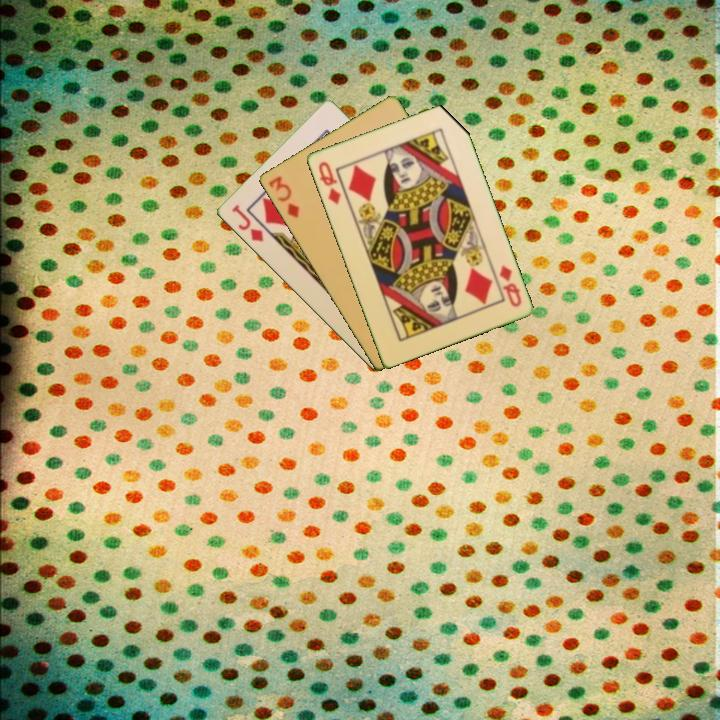3d: (264, 172, 302, 221)
Jd: (228, 201, 266, 245)
Qd: (314, 158, 343, 207), (495, 261, 524, 310)
